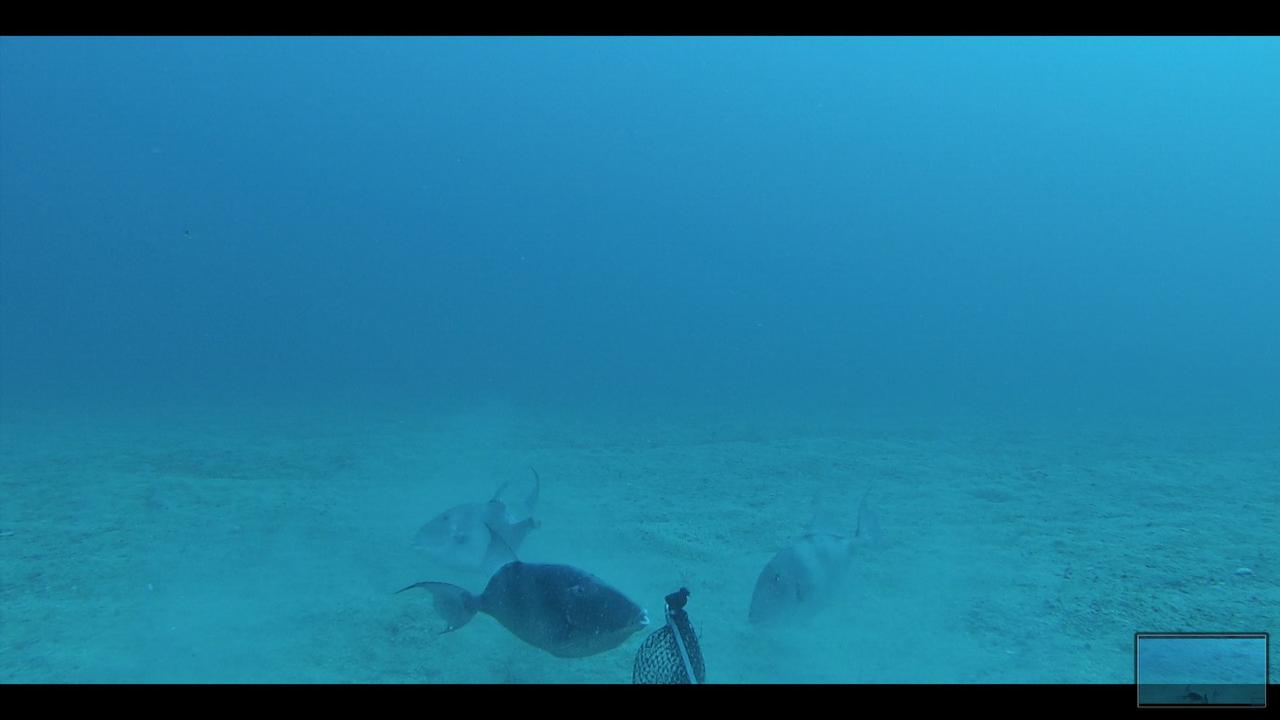balistes: (389, 519, 651, 661), (743, 486, 897, 629), (403, 460, 547, 569)
